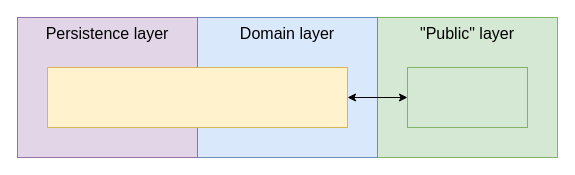
The diagram is 575 pixels wide and 175 high, and some of its shapes have lost their labels. The box of each missing label's shape, as (x1, y1, x2, y2) in pixels:
Domain & Persistence model: (46, 66, 348, 128)
Public model API/UI/MQ/etc.: (406, 66, 528, 128)
